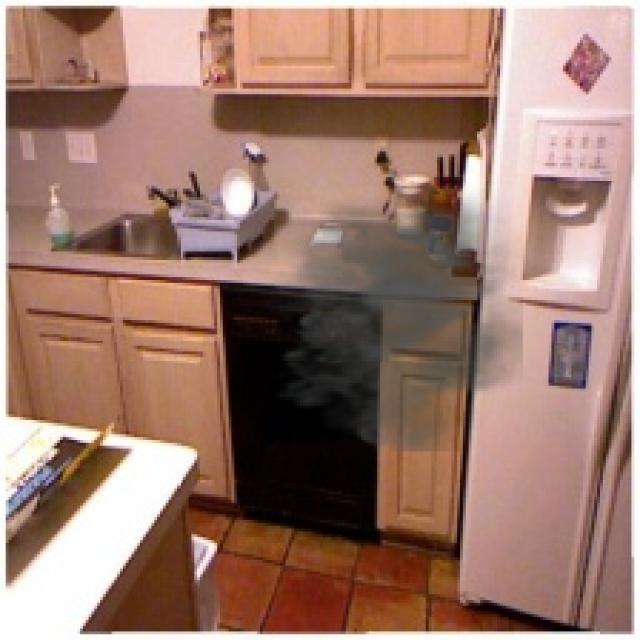Smoke: (248, 182, 523, 452)
